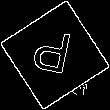P_S: (31, 26, 79, 84)
